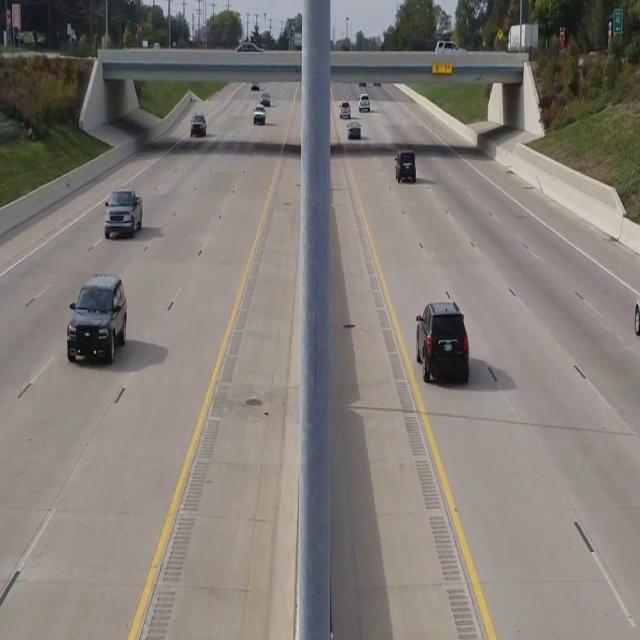car: (66, 273, 128, 365), (414, 298, 469, 384), (103, 188, 143, 240), (394, 149, 415, 182), (633, 274, 640, 356), (191, 113, 206, 136)
